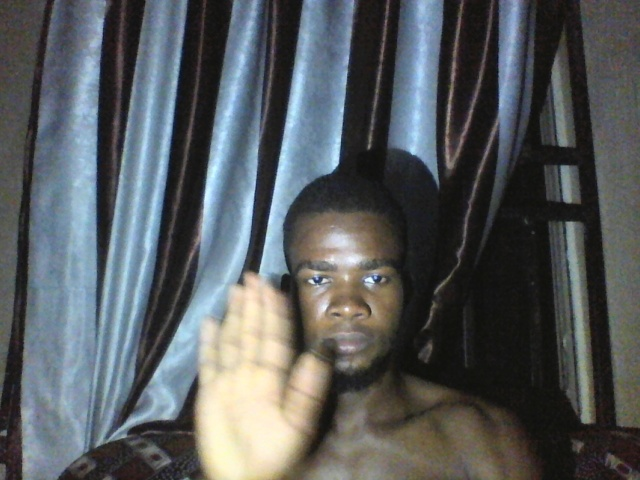hello: (194, 268, 333, 480)
